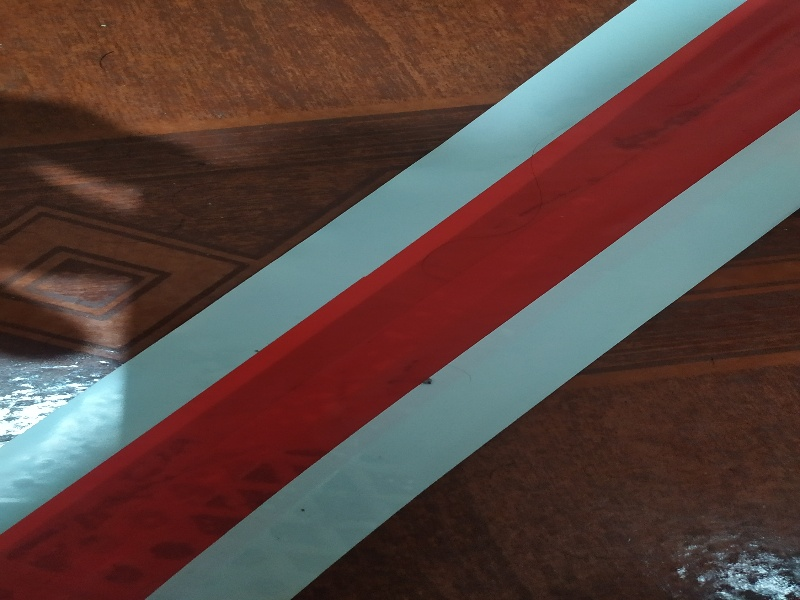saindoEsquerda: (7, 1, 800, 595)
